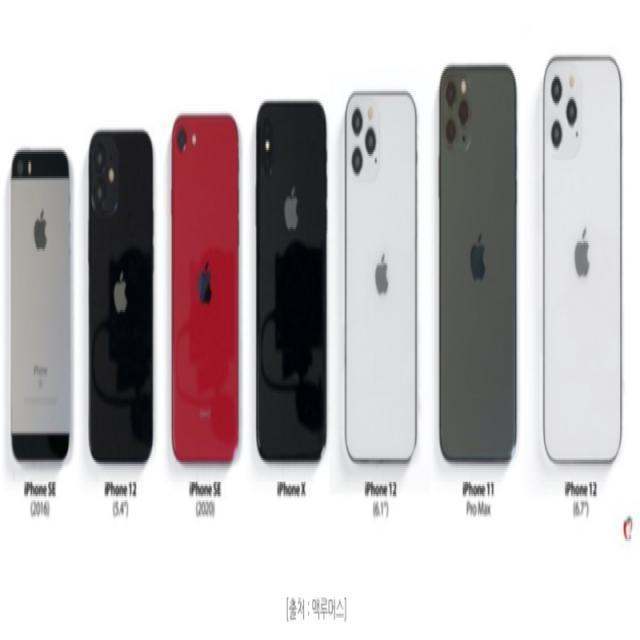phone: (541, 52, 624, 464), (438, 65, 516, 462), (344, 90, 417, 463), (255, 99, 328, 466), (171, 110, 239, 463), (86, 127, 154, 466), (9, 145, 73, 467)
